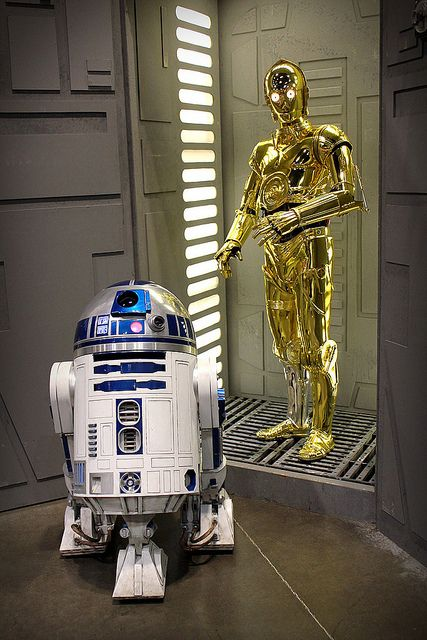r2d2: (49, 279, 236, 602)
